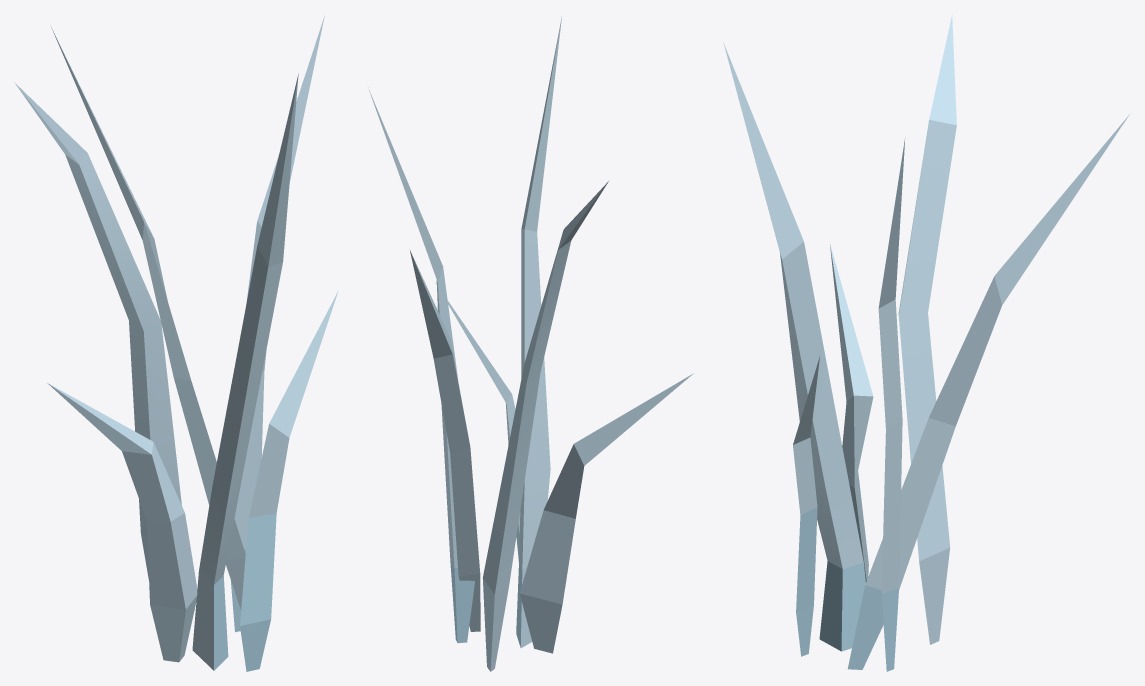
The model's file is model_polytope_snow_long_grass02.fbx.
The picture shows the model from 3 angles, left to right: view 1: azimuth 30°, elevation 25°; view 2: azimuth 150°, elevation 25°; view 3: azimuth 270°, elevation 25°; orthographic projection. The views are drawn at different scales.
Visible parts, largest first — view 1: model_polytope_snow_long_grass02; view 2: model_polytope_snow_long_grass02; view 3: model_polytope_snow_long_grass02.
Boxes of the visible parts, left/top/right/bottom form: model_polytope_snow_long_grass02: left=14, top=15, right=338, bottom=671; model_polytope_snow_long_grass02: left=368, top=17, right=693, bottom=671; model_polytope_snow_long_grass02: left=723, top=14, right=1129, bottom=671.
Bounding box in the file's own units: 31.11 × 58.65 × 35.25.
1 material, 1 textured.
